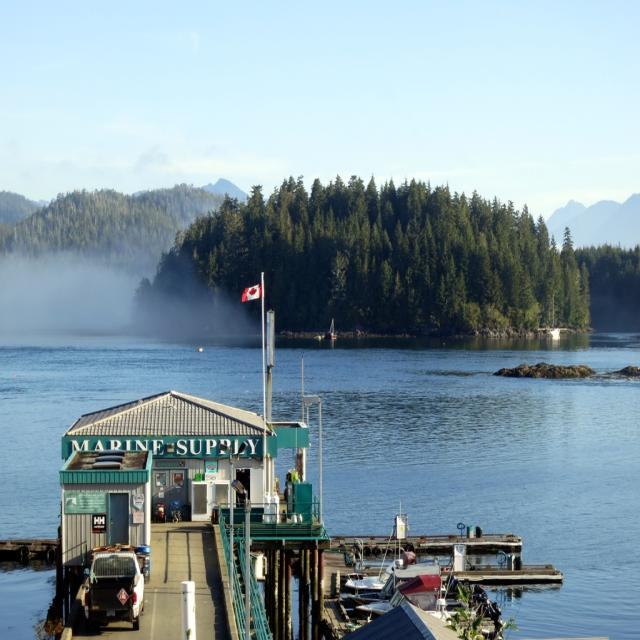car: (87, 550, 141, 632)
